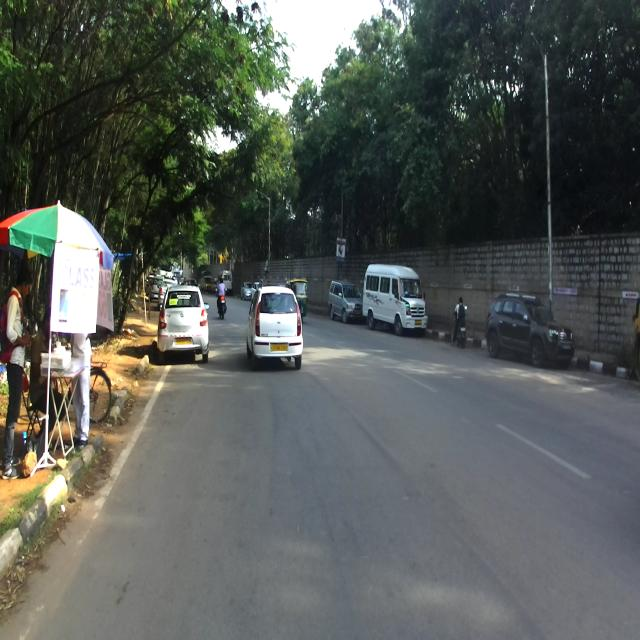car ahead at: (486, 287, 576, 372), (247, 281, 303, 365), (158, 283, 211, 363)
person ahead at: (0, 265, 31, 489)
